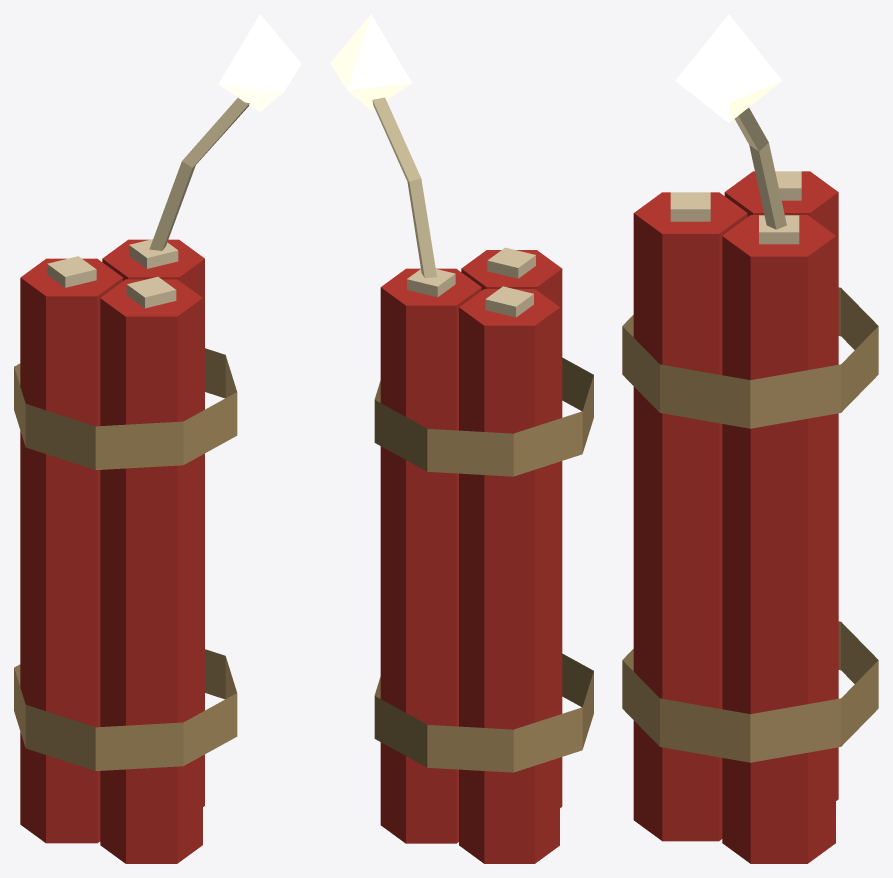
Rendered from SM_Dynamite.fbx.
3 views of the same model, side by side, from view 1: azimuth 30°, elevation 25°; view 2: azimuth 150°, elevation 25°; view 3: azimuth 270°, elevation 25° (orthographic). The views are drawn at different scales.
Visible parts, largest first — view 1: Prop_Dynamite; view 2: Prop_Dynamite; view 3: Prop_Dynamite.
Part boxes in pixels (x1,y1,x2,y2): Prop_Dynamite: [14, 14, 301, 863]; Prop_Dynamite: [330, 14, 593, 863]; Prop_Dynamite: [622, 14, 878, 863].
Size of the model in its own units: 12.74 by 9.56 by 36.
